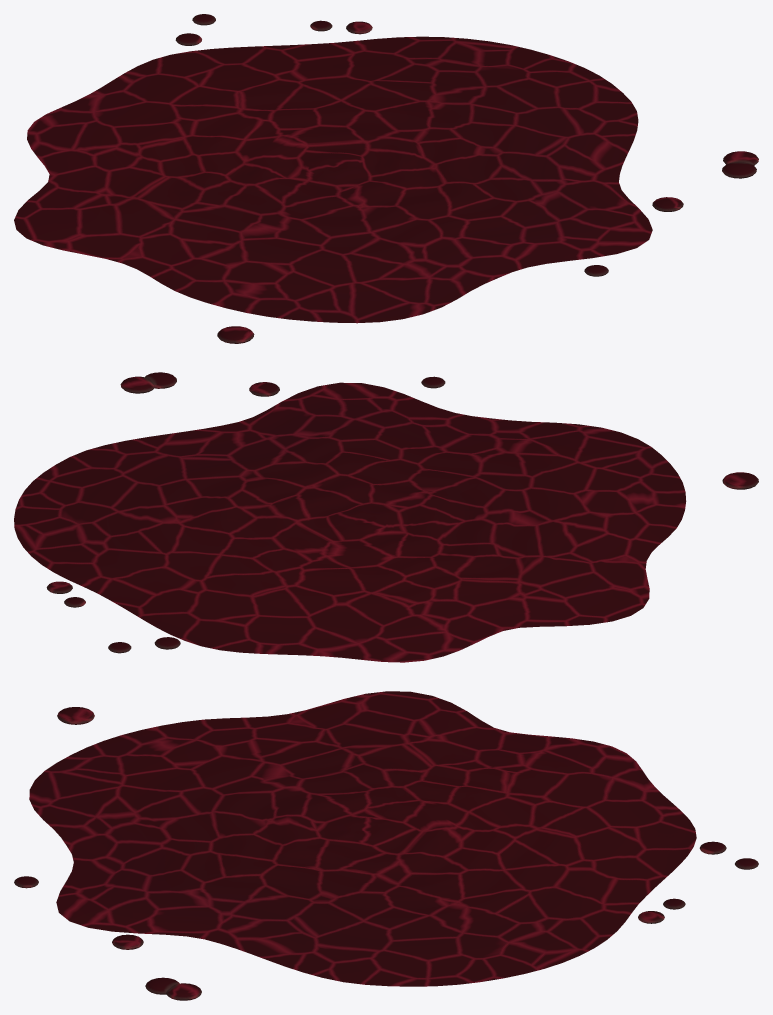
The model's file is BloodPool.fbx.
3 views of the same model, one above another, from view 1: azimuth 30°, elevation 25°; view 2: azimuth 150°, elevation 25°; view 3: azimuth 270°, elevation 25° (orthographic). The views are drawn at different scales.
Parts seen in each view (by area): view 1: BloodPool; view 2: BloodPool; view 3: BloodPool.
Boxes of the visible parts, x1,y1,x2,y2 form: BloodPool: [14, 14, 758, 343]; BloodPool: [14, 372, 758, 662]; BloodPool: [14, 691, 758, 1000].
Bounding box in the file's own units: 499 × 8.31 × 504.
